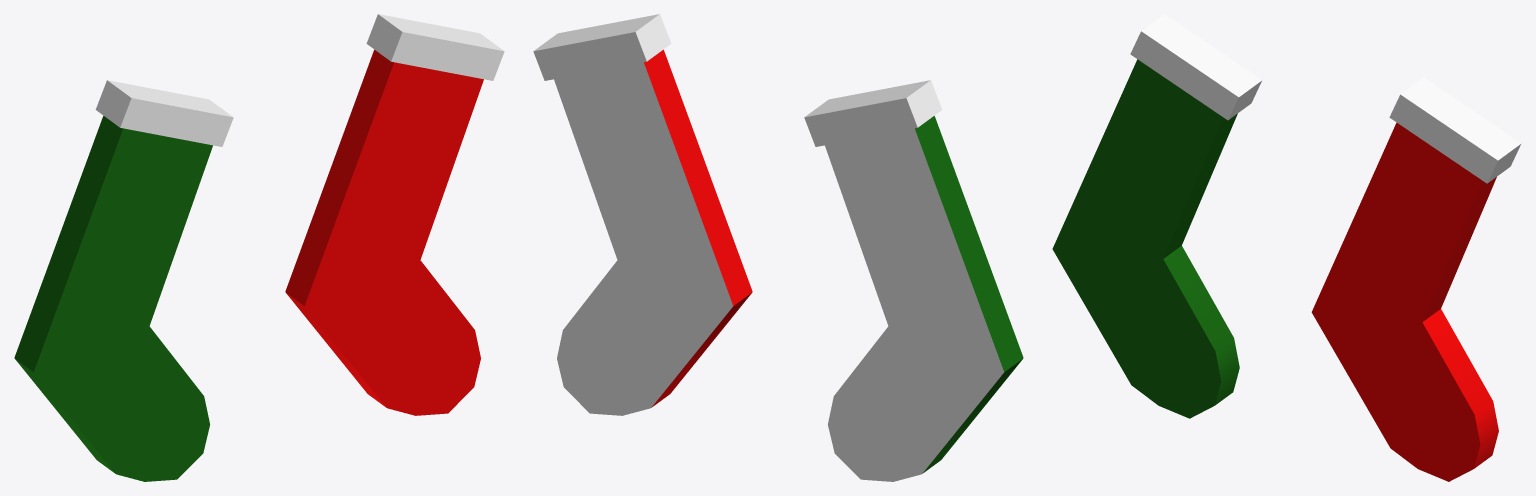
Rendered from Socks.FBX.
3 renders of one model, left to right at view 1: azimuth 30°, elevation 25°; view 2: azimuth 150°, elevation 25°; view 3: azimuth 330°, elevation 25°, orthographic. The views are drawn at different scales.
Parts seen in each view (by area): view 1: Object022, Object021; view 2: Object022, Object021; view 3: Object022, Object021.
Boxes of the visible parts, <box> form: Object022: <box>14,80,233,481</box>; Object021: <box>285,14,504,415</box>; Object022: <box>804,80,1023,481</box>; Object021: <box>533,14,752,415</box>; Object022: <box>1052,14,1262,418</box>; Object021: <box>1311,77,1521,481</box>.
Bounding box in the file's own units: 41.81 × 33.71 × 3.79.
